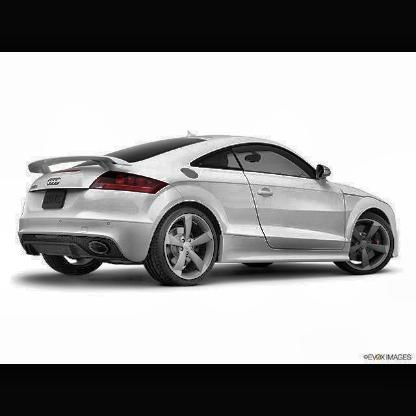Audi TT RS Coupe 2012: (17, 131, 405, 291)
